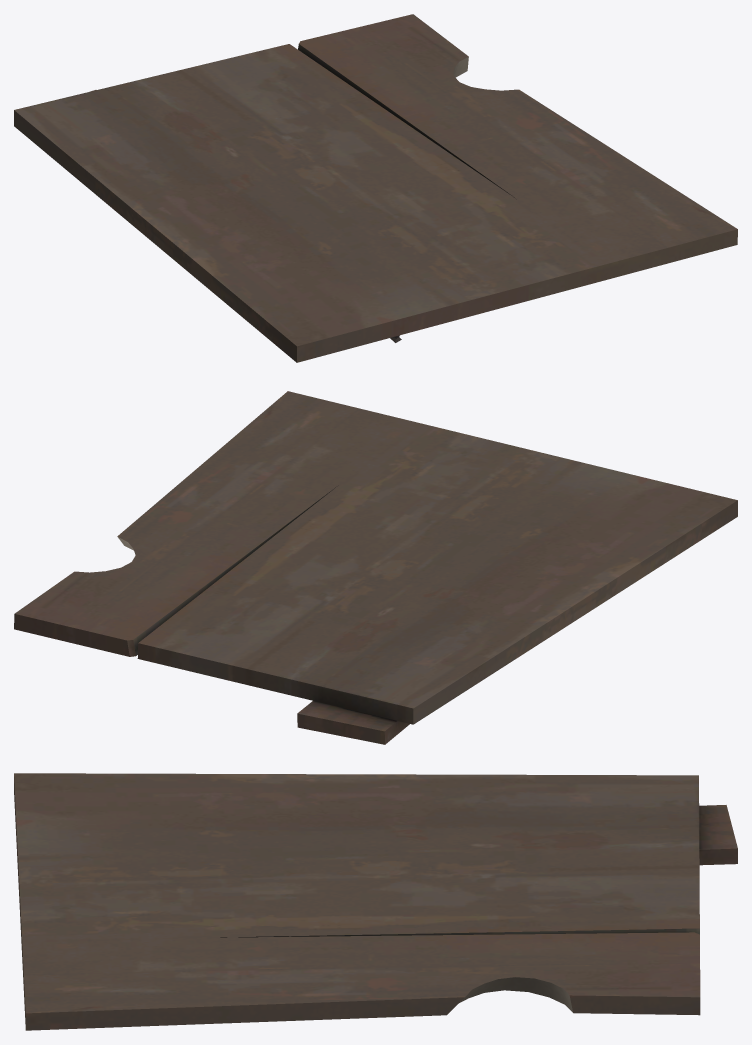
The model's file is props_coalmines_wood_debris2.glb.
3 renders of one model, top to bottom at view 1: azimuth 30°, elevation 25°; view 2: azimuth 150°, elevation 25°; view 3: azimuth 270°, elevation 25°, orthographic. The views are drawn at different scales.
Visible parts, largest first — view 1: models/props_coalmines/wood_debris2; view 2: models/props_coalmines/wood_debris2; view 3: models/props_coalmines/wood_debris2.
Boxes of the visible parts, <box> form: models/props_coalmines/wood_debris2: <box>14,14,737,362</box>; models/props_coalmines/wood_debris2: <box>14,391,737,744</box>; models/props_coalmines/wood_debris2: <box>14,773,737,1030</box>.
Bounding box in the file's own units: 83.2 × 11.71 × 104.
Materials: 1 (1 with a texture image).
